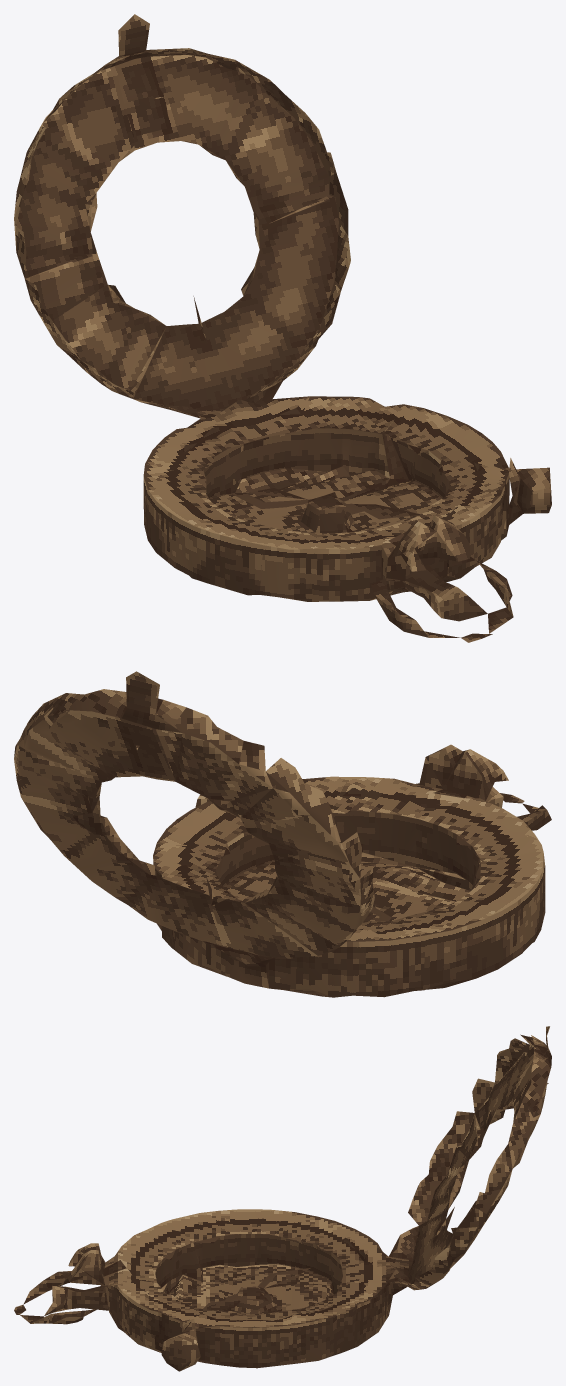
The model's file is seadogs_compass.glb.
3 views of the same model, one above another, from view 1: azimuth 30°, elevation 25°; view 2: azimuth 150°, elevation 25°; view 3: azimuth 270°, elevation 25° (orthographic). The views are drawn at different scales.
Parts seen in each view (by area): view 1: mesh; view 2: mesh; view 3: mesh.
Part boxes in pixels (left/top/right/bottom): mesh: left=14, top=14, right=551, bottom=642; mesh: left=14, top=671, right=551, bottom=997; mesh: left=14, top=1026, right=551, bottom=1371.
Size of the model in its own units: 11.25 by 12 by 20.06.
Materials: 1 (1 with a texture image).
